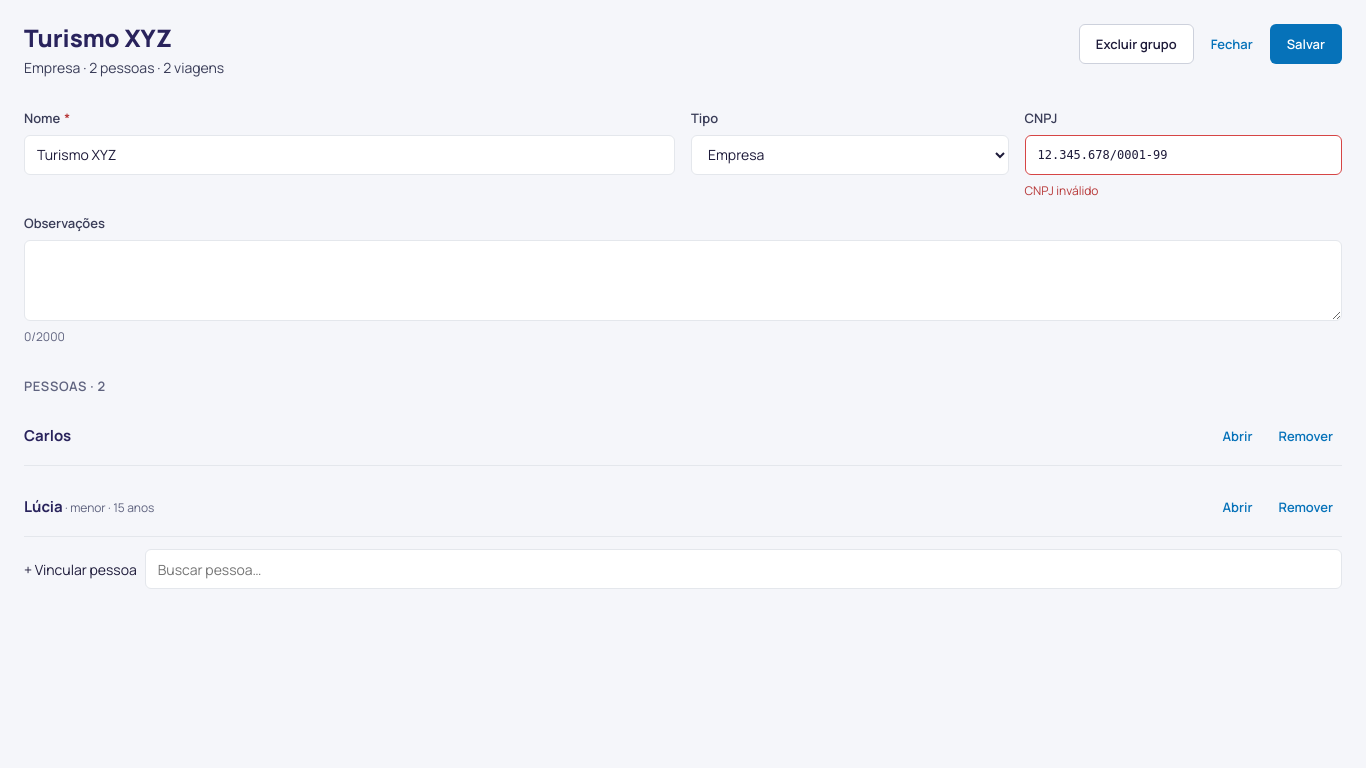
Test case: observações mostra contador N/2000 e limita maxLength
Expected: the field showing "12.345.678/0001-99" is shown, [1024,135,1342,175]
In the text box labelled "Observações": [683, 281] box [24,240,1342,321], type "abc"
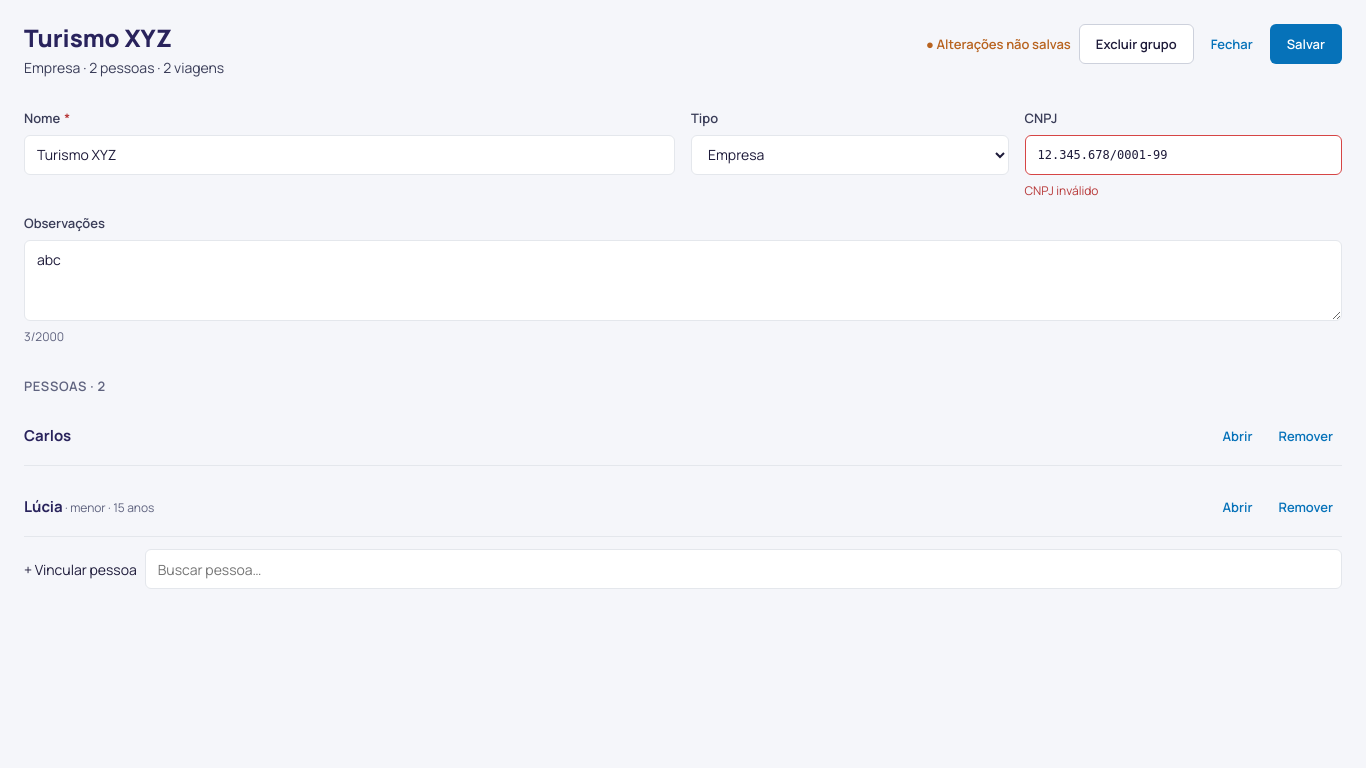
Now the text "3/2000" is shown, box [24,328,64,345]
